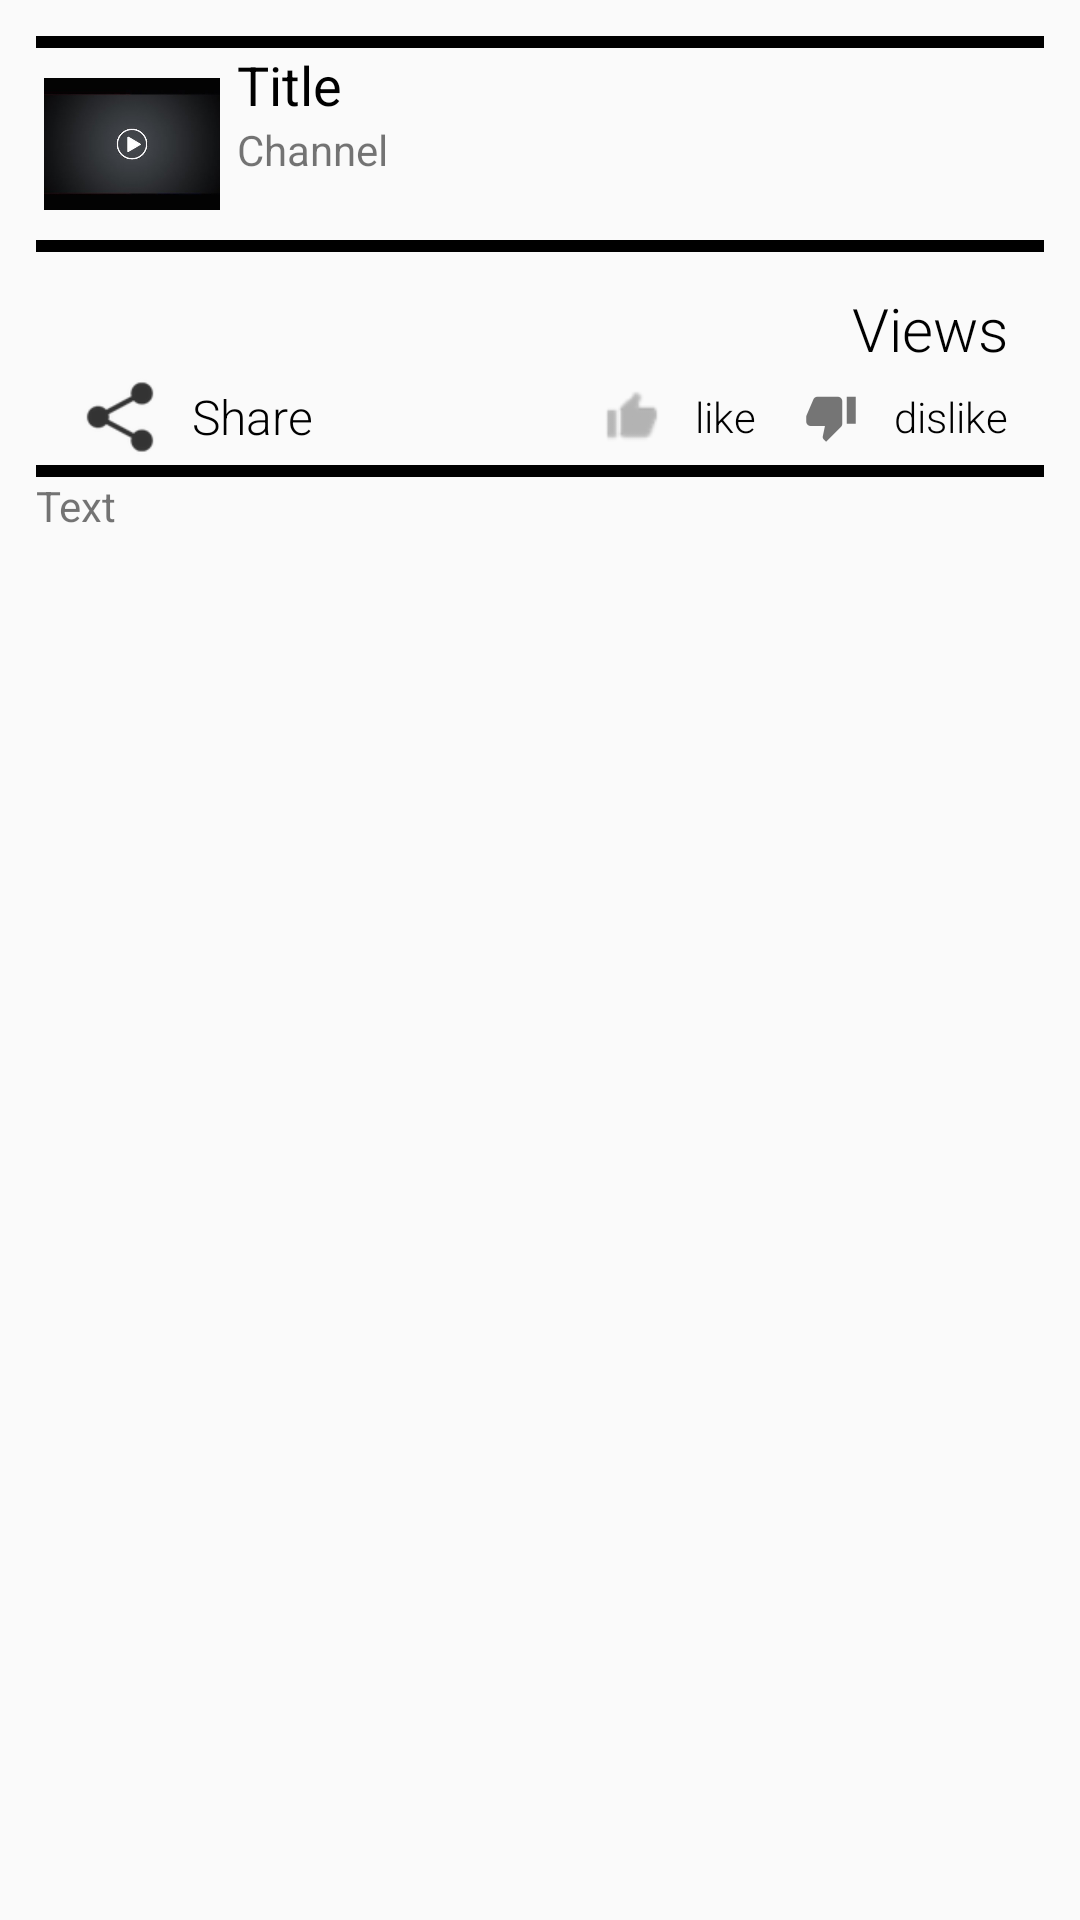

Named icons in this screenshot (1080*1920) and their bounding boxes, box(x1, y1, x2, y2):
thumb down: box(806, 396, 856, 442)
thumb up: box(607, 393, 657, 438)
